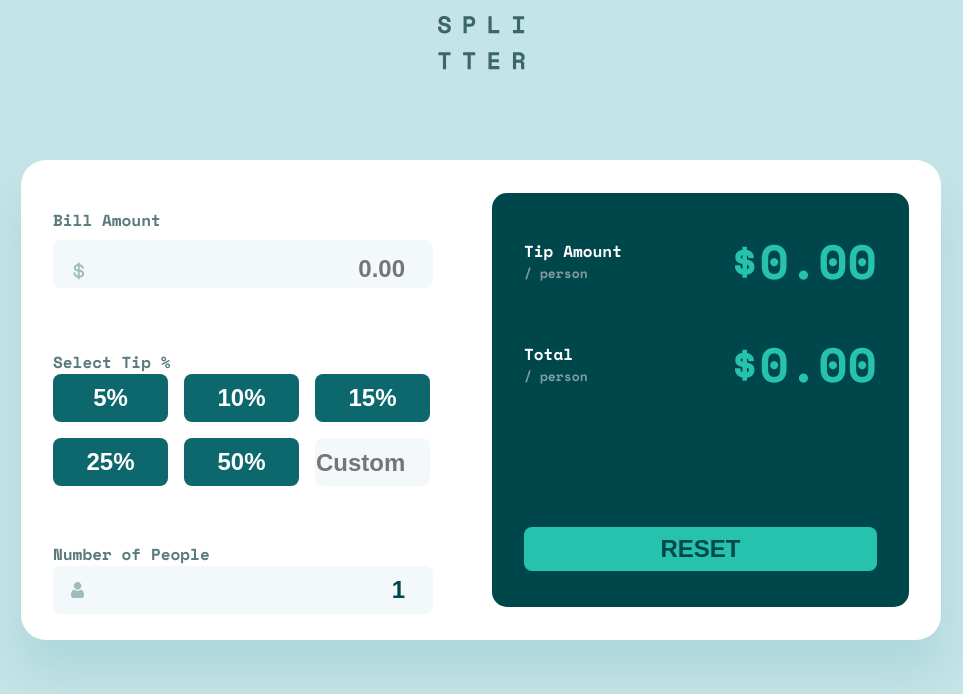
Test: Tip Calculator App › custom tip választásakor a gombok ne legyenek selected és helyesen számol
Type "100" into the number field labelled "Bill Amount".
click(243, 264); type("100")  # box [53, 240, 433, 288]
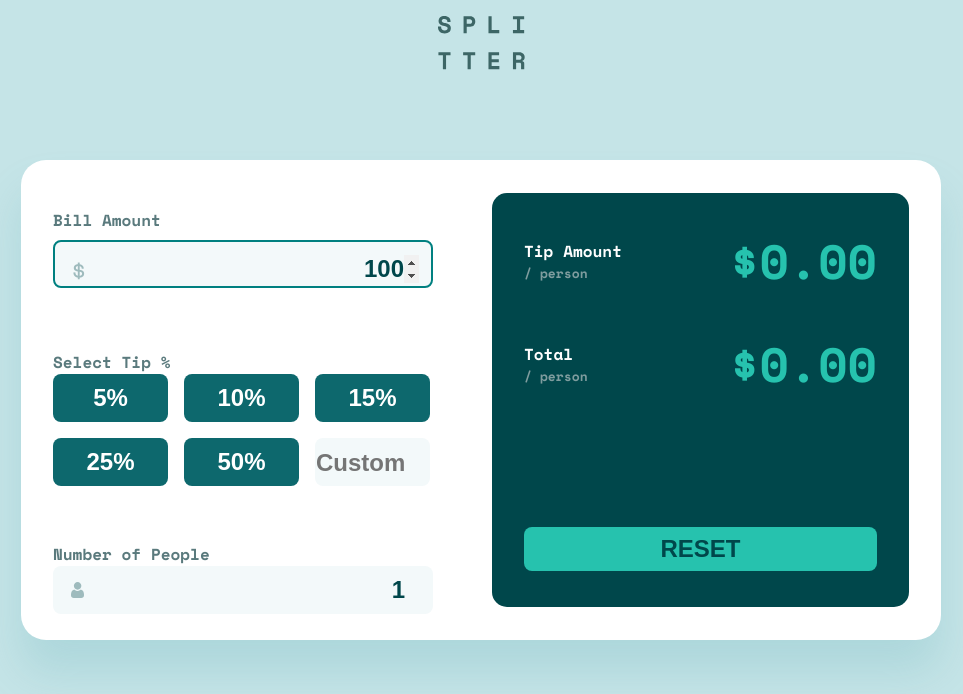
Type "2" into the number field labelled "Number of People".
click(243, 590); type("2")  # box [53, 566, 433, 614]
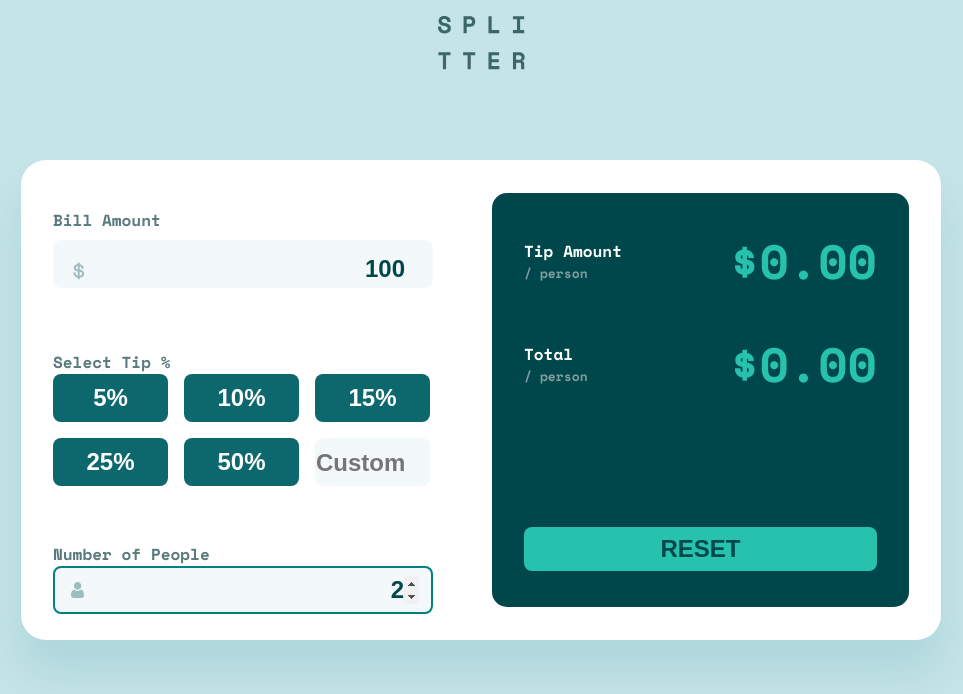
Note: first click on '10%' button
Click the button "10%".
click(242, 398)  # box [184, 374, 299, 422]
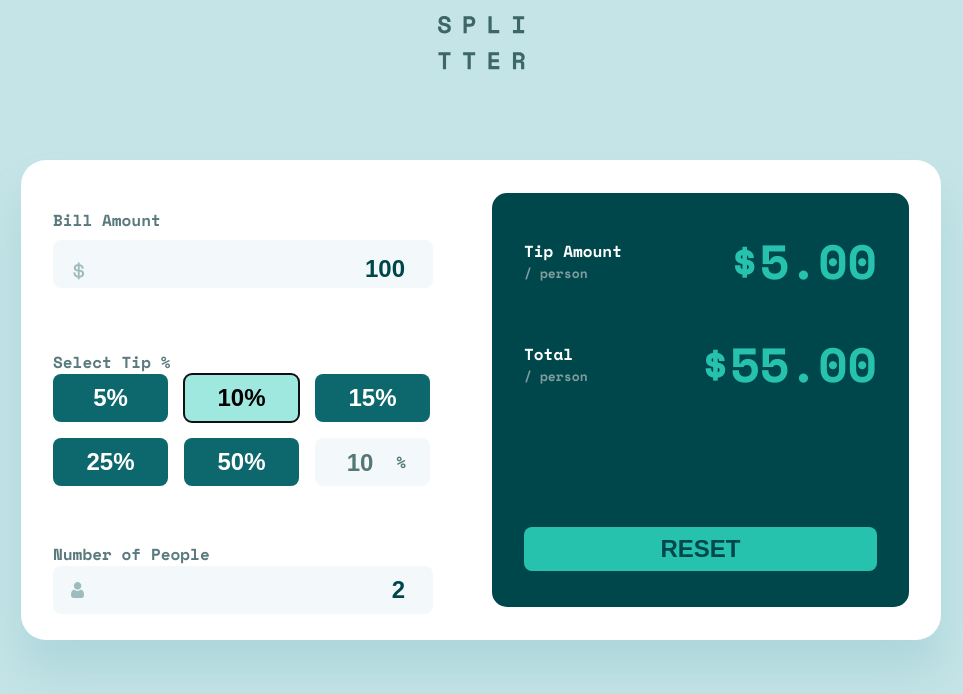
Expected: the button "10%" has class "selected", [184, 374, 299, 422]
Replace the text in the number field with placeholder "Custom" with "17" at (372, 462), box [315, 438, 430, 486]
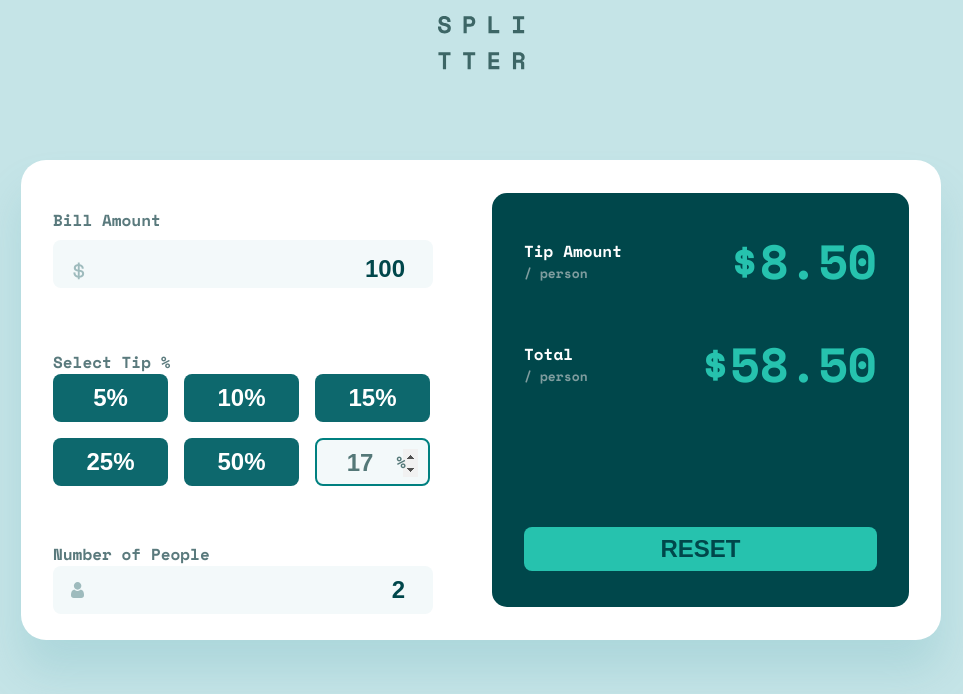
Expected: the text "$8.50" is shown, [730, 225, 877, 296]
Expected: the text "$58.50" is shown, [701, 328, 877, 399]
